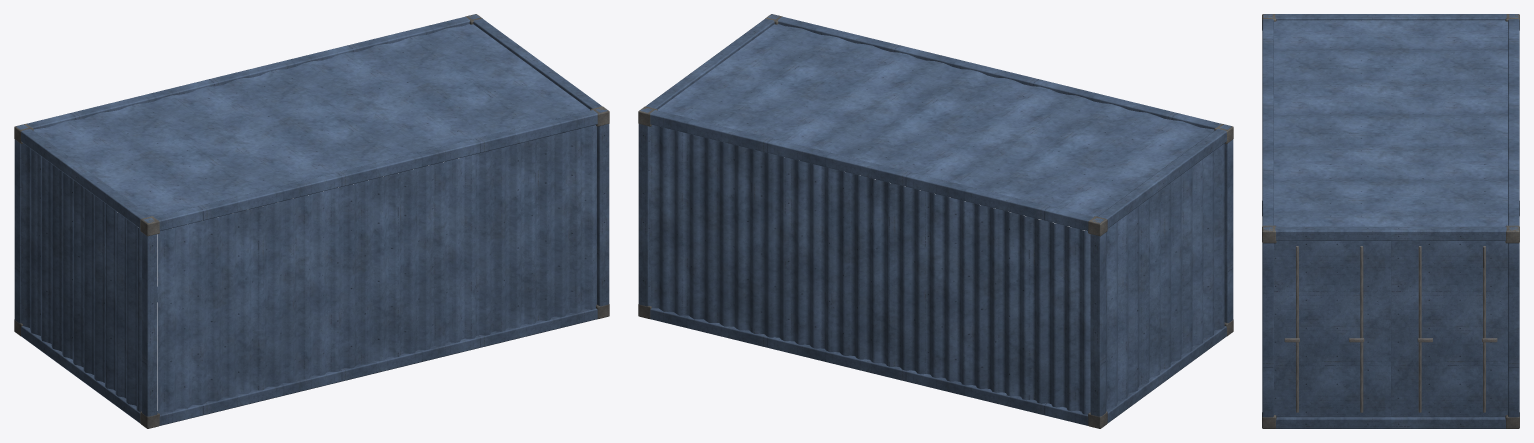
The model's file is prop_containerBlue.glb.
3 views of the same model, side by side, from view 1: azimuth 30°, elevation 25°; view 2: azimuth 150°, elevation 25°; view 3: azimuth 270°, elevation 25° (orthographic). The views are drawn at different scales.
Visible parts, largest first — view 1: prop; view 2: prop; view 3: prop.
Boxes of the visible parts, <box> form: prop: <box>14,14,609,428</box>; prop: <box>638,14,1233,428</box>; prop: <box>1262,14,1519,428</box>.
Bounding box in the file's own units: 4.01 × 1.7 × 2.
Materials: 1 (1 with a texture image).
